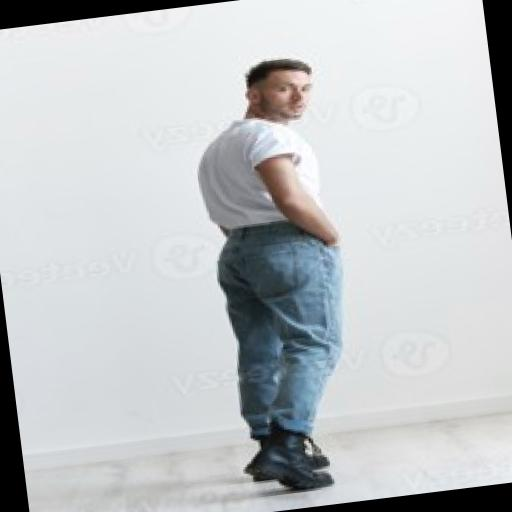human: (175, 44, 386, 506)
